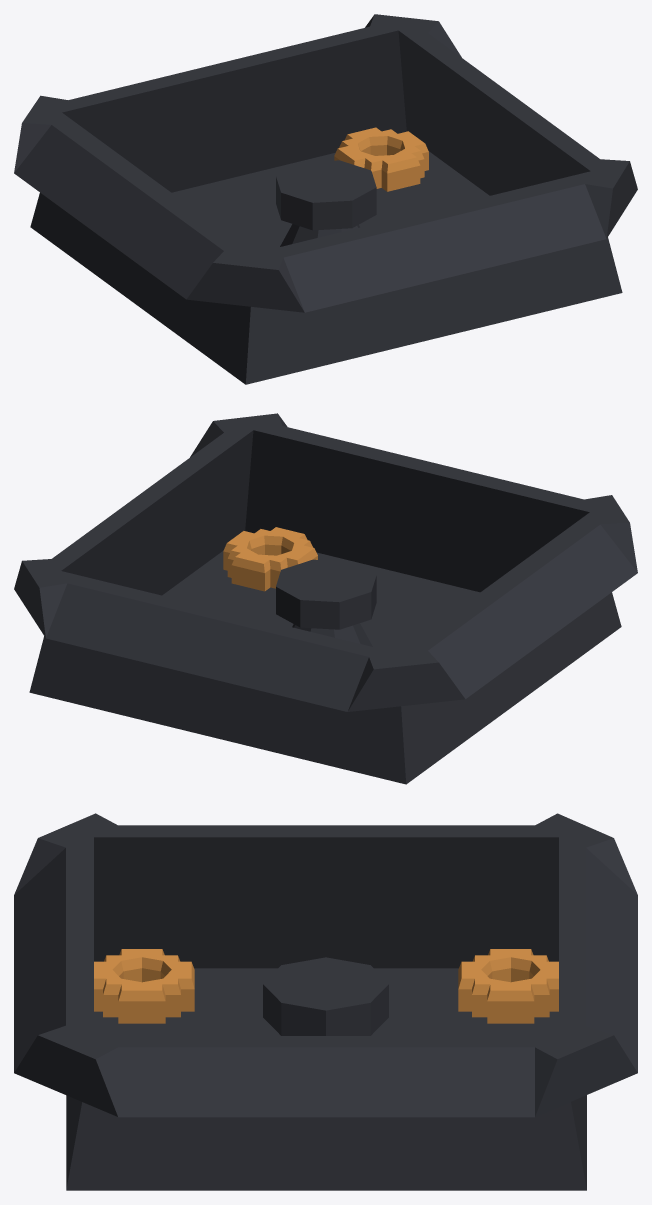
File: PMV-Base.glb
The picture shows the model from 3 angles, top to bottom: view 1: azimuth 30°, elevation 25°; view 2: azimuth 150°, elevation 25°; view 3: azimuth 270°, elevation 25°; orthographic projection. The views are drawn at different scales.
Visible parts, largest first — view 1: Marco, Chakana Marco; view 2: Marco, Chakana Marco; view 3: Marco, Chakana Marco.
Part boxes in pixels (left/top/right/bottom): Marco: left=14, top=14, right=637, bottom=384; Chakana Marco: left=334, top=127, right=428, bottom=191; Marco: left=14, top=413, right=637, bottom=784; Chakana Marco: left=223, top=527, right=317, bottom=591; Marco: left=14, top=813, right=637, bottom=1190; Chakana Marco: left=94, top=949, right=558, bottom=1023.
Size of the model in its own units: 1.2 by 0.3 by 1.19.
Materials: 2 (1 with a texture image).
